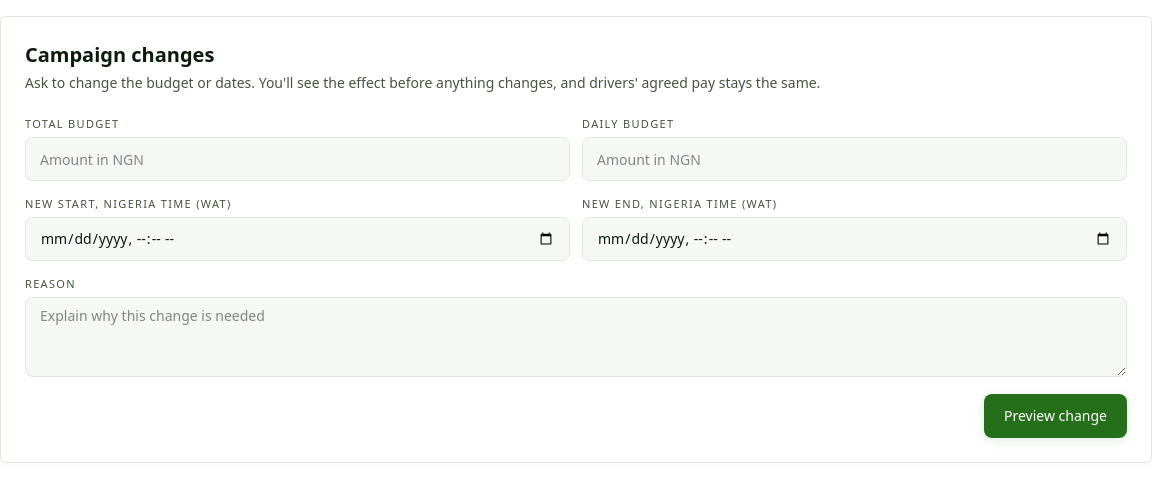
Test: CampaignChangePanel › does not restore a preview that resolves after the user edits
Type "1100.00" into the field labelled "Total budget" at (298, 159), box [25,137,570,181]
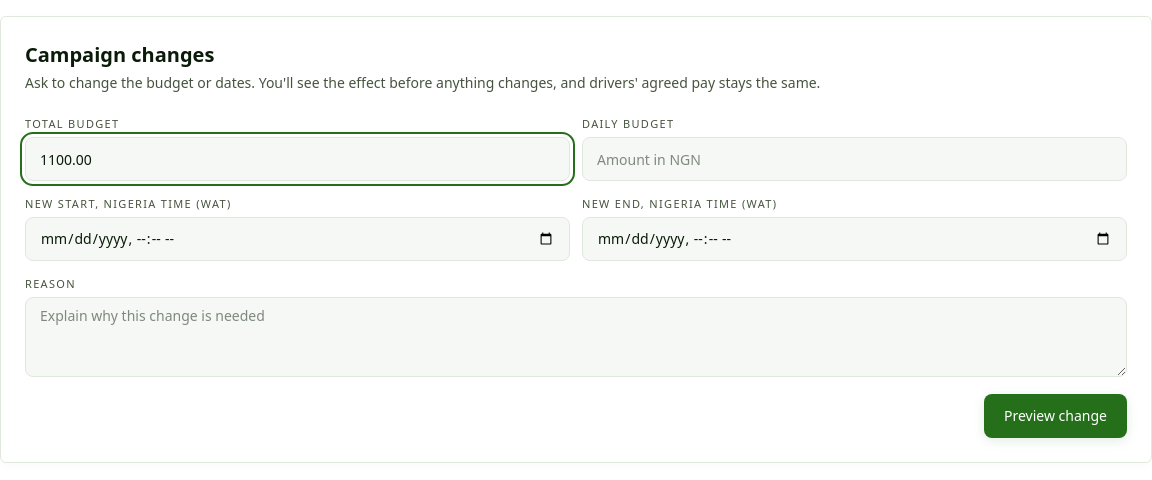
Type "Expansion" into the text box labelled "Reason" at (576, 337), box [25,297,1127,377]
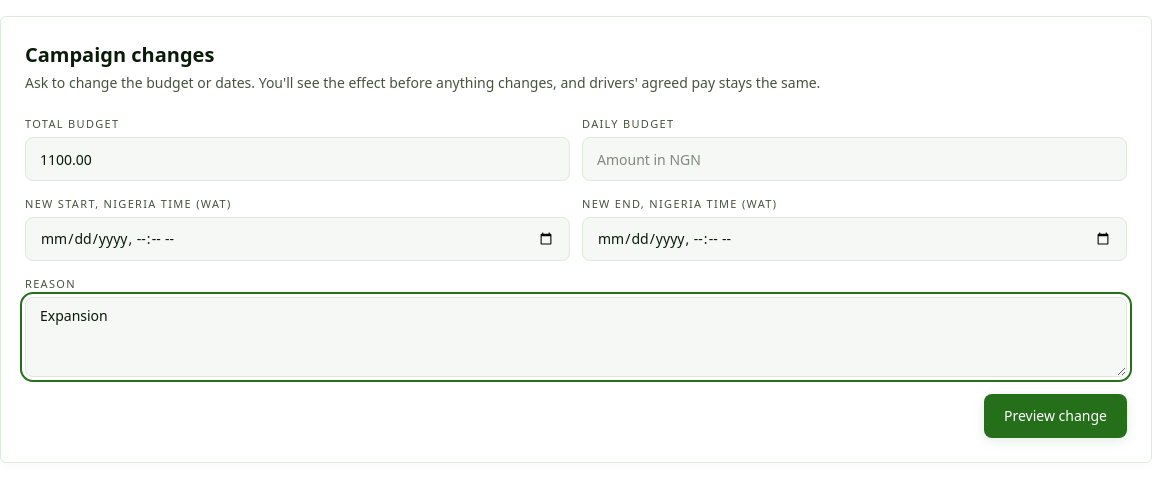
Click the button "Preview change" at (1056, 416), box [984,394,1127,438]
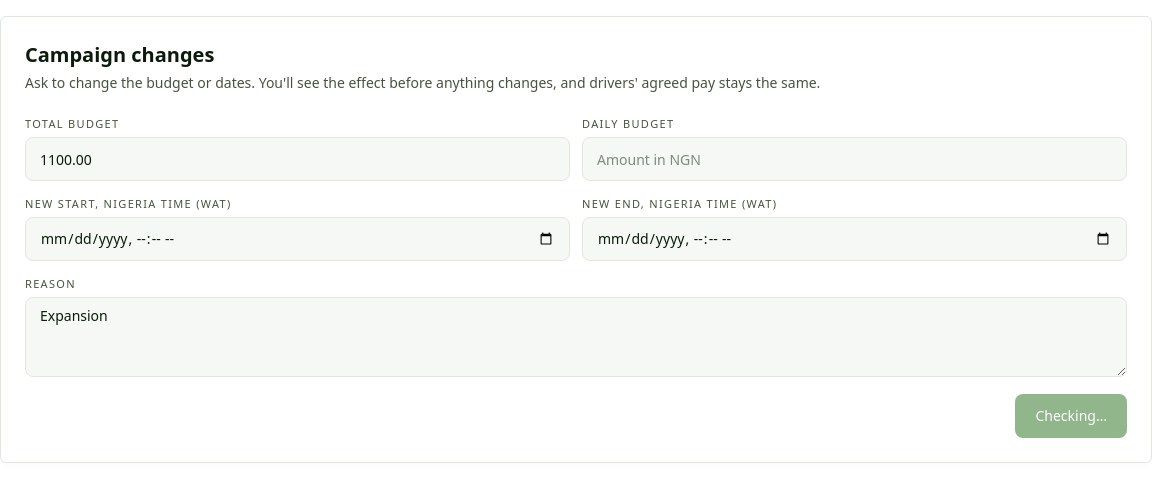
Type " edited" into the text box labelled "Reason" at (576, 337), box [25,297,1127,377]
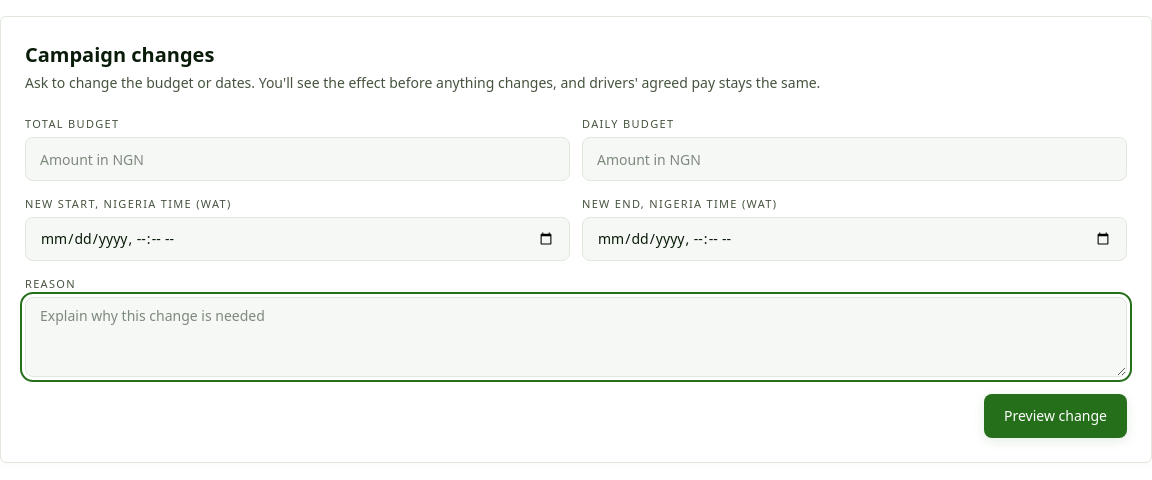
Result: the button "Preview change" is enabled at [984,394,1127,438]
